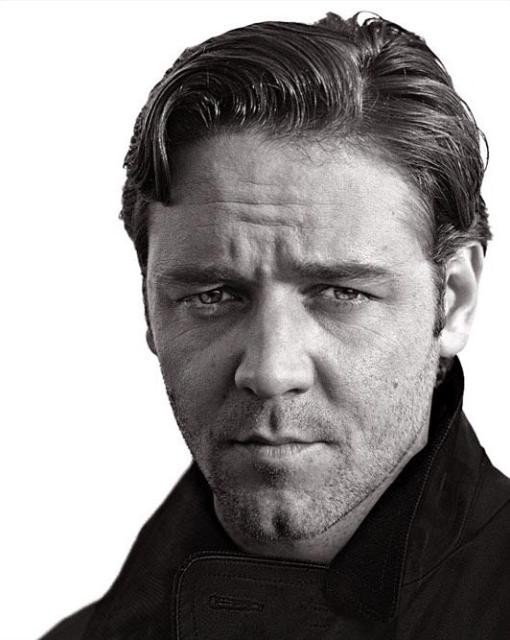forehead: (216, 192, 318, 230)
frown_line: (256, 238, 296, 270)
gummy_smile: (307, 352, 335, 400), (216, 369, 234, 405)
